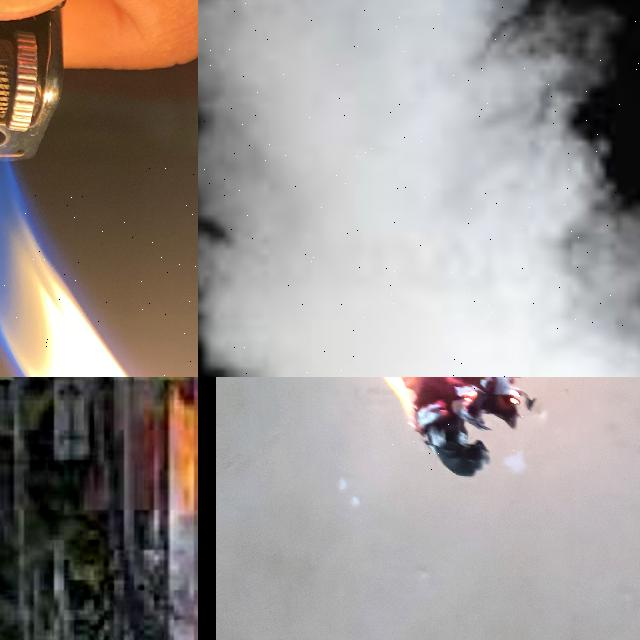fire: (0, 162, 130, 377), (386, 377, 533, 476)
smoke: (198, 0, 640, 377)
